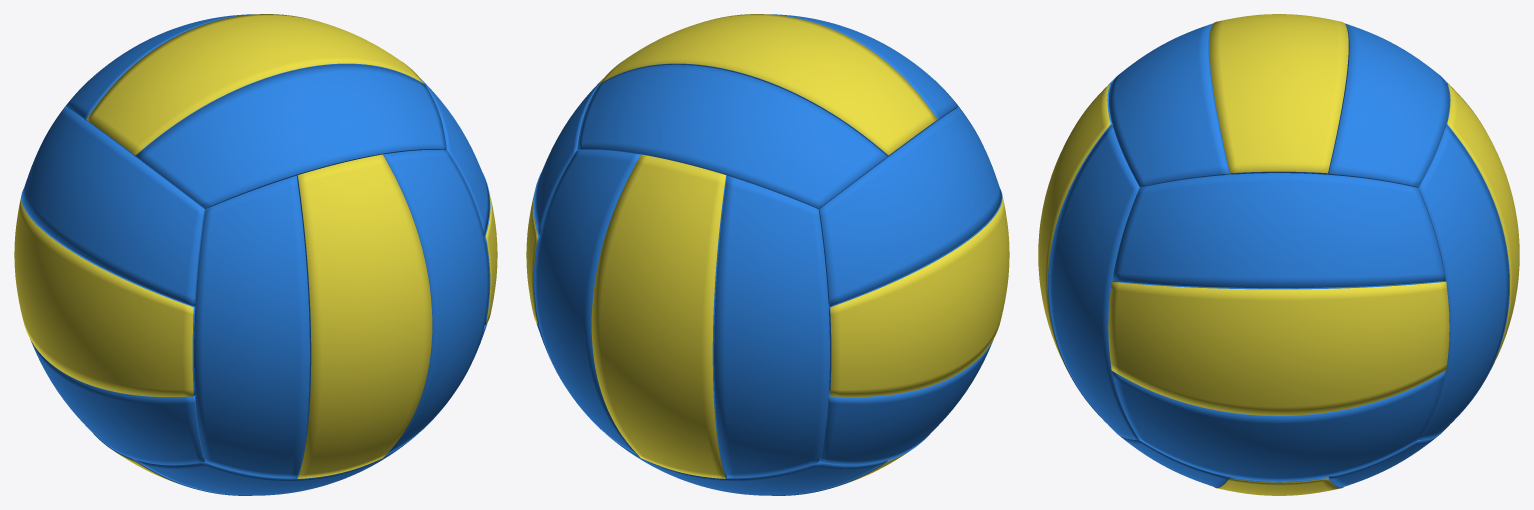
File: volleyball.glb
3 views of the same model, side by side, from view 1: azimuth 30°, elevation 25°; view 2: azimuth 150°, elevation 25°; view 3: azimuth 270°, elevation 25° (orthographic).
Visible parts, largest first — view 1: VolleyBall; view 2: VolleyBall; view 3: VolleyBall.
Part boxes in pixels (x1,y1,x2,y2): VolleyBall: (14, 14, 497, 495); VolleyBall: (526, 14, 1009, 495); VolleyBall: (1038, 14, 1519, 495).
Size of the model in its own units: 64.97 by 64.97 by 64.97.
